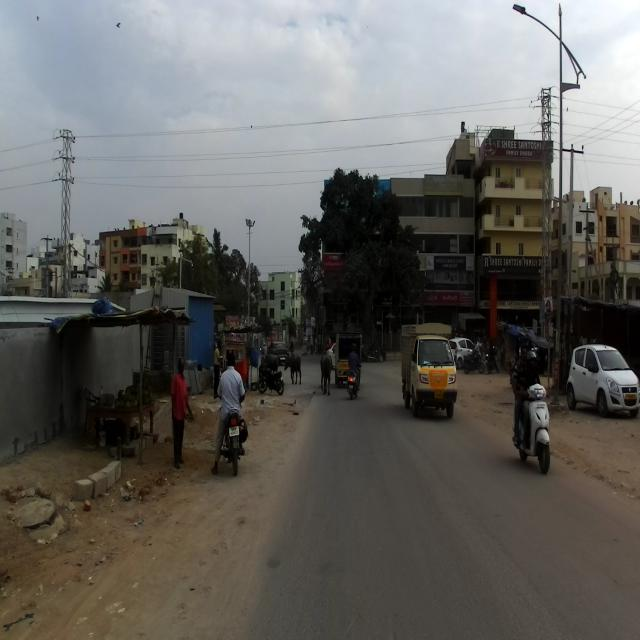car ahead at: (398, 322, 465, 422)
motorcycle ahead at: (511, 380, 558, 474), (214, 399, 250, 480)
person ahead at: (169, 352, 196, 465)
stones ahead at: (72, 459, 126, 500)
